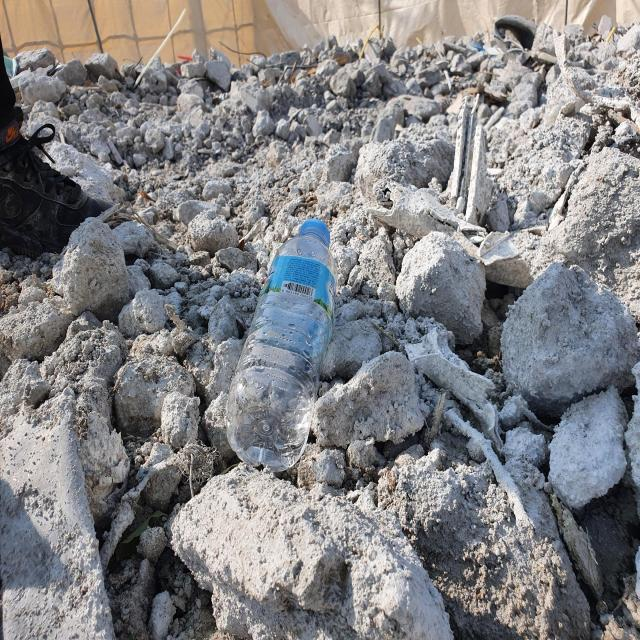plastic: (226, 219, 337, 472)
